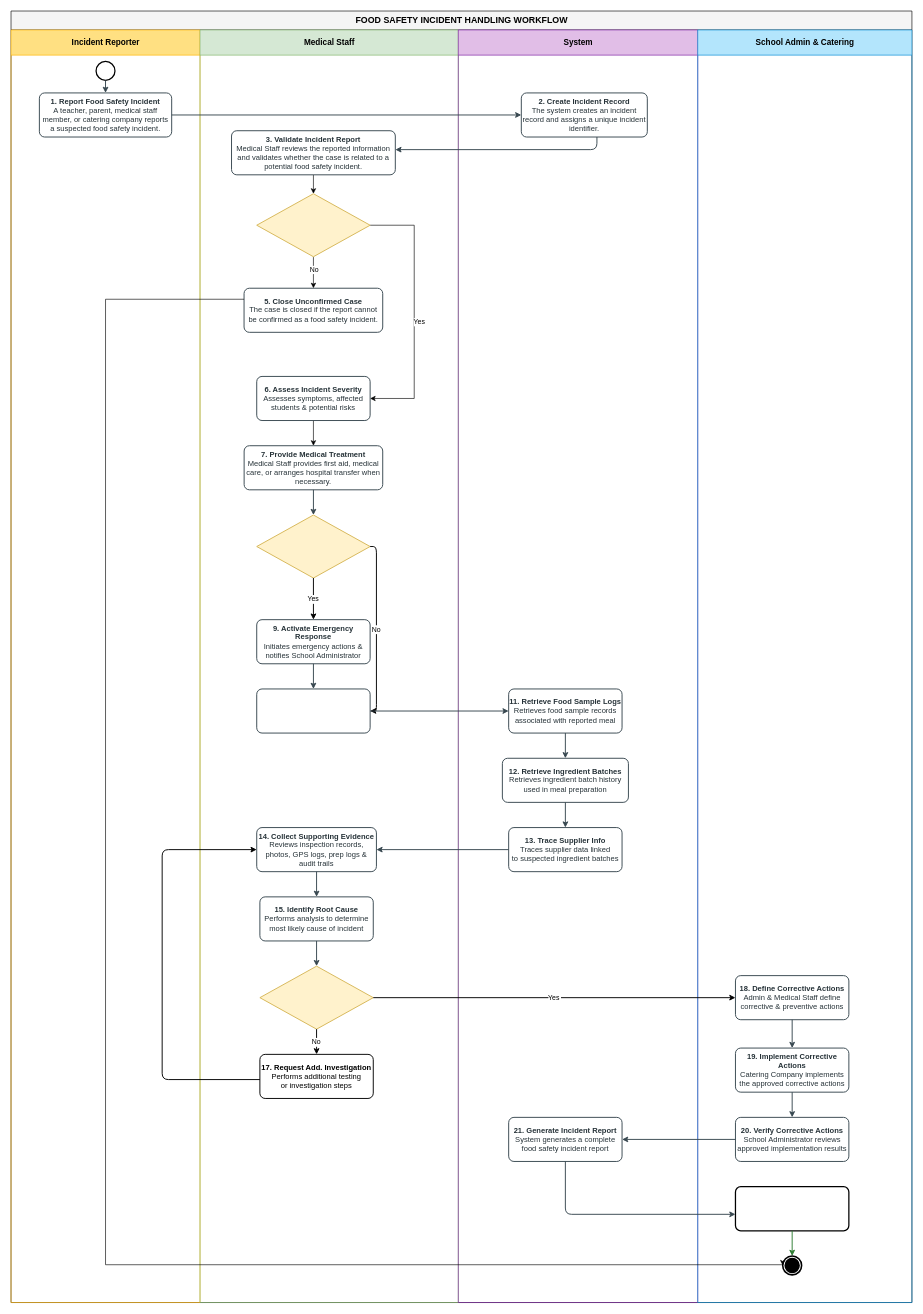
Image size: 923x1314. Some labels were removed from this diagram. Here are the shapes that lost their labels. From the top down, the centre of each, then its label:
[313,225]: 4. Valid Incident?
[313,546]: 8. High Severity Incident?
[313,710]: 10. Start Investigation Medical Staff initiates the investigation process
[316,997]: 16. Root Cause Confirmed?
[792,1208]: 22. Close Incident School Administrator closes the incident after verification
